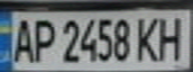2: (57, 15, 81, 64)
4: (78, 15, 100, 63)
5: (93, 15, 115, 63)
8: (112, 15, 136, 62)
A: (6, 15, 36, 64)
H: (154, 12, 190, 62)
K: (133, 14, 163, 63)
P: (27, 16, 57, 64)
